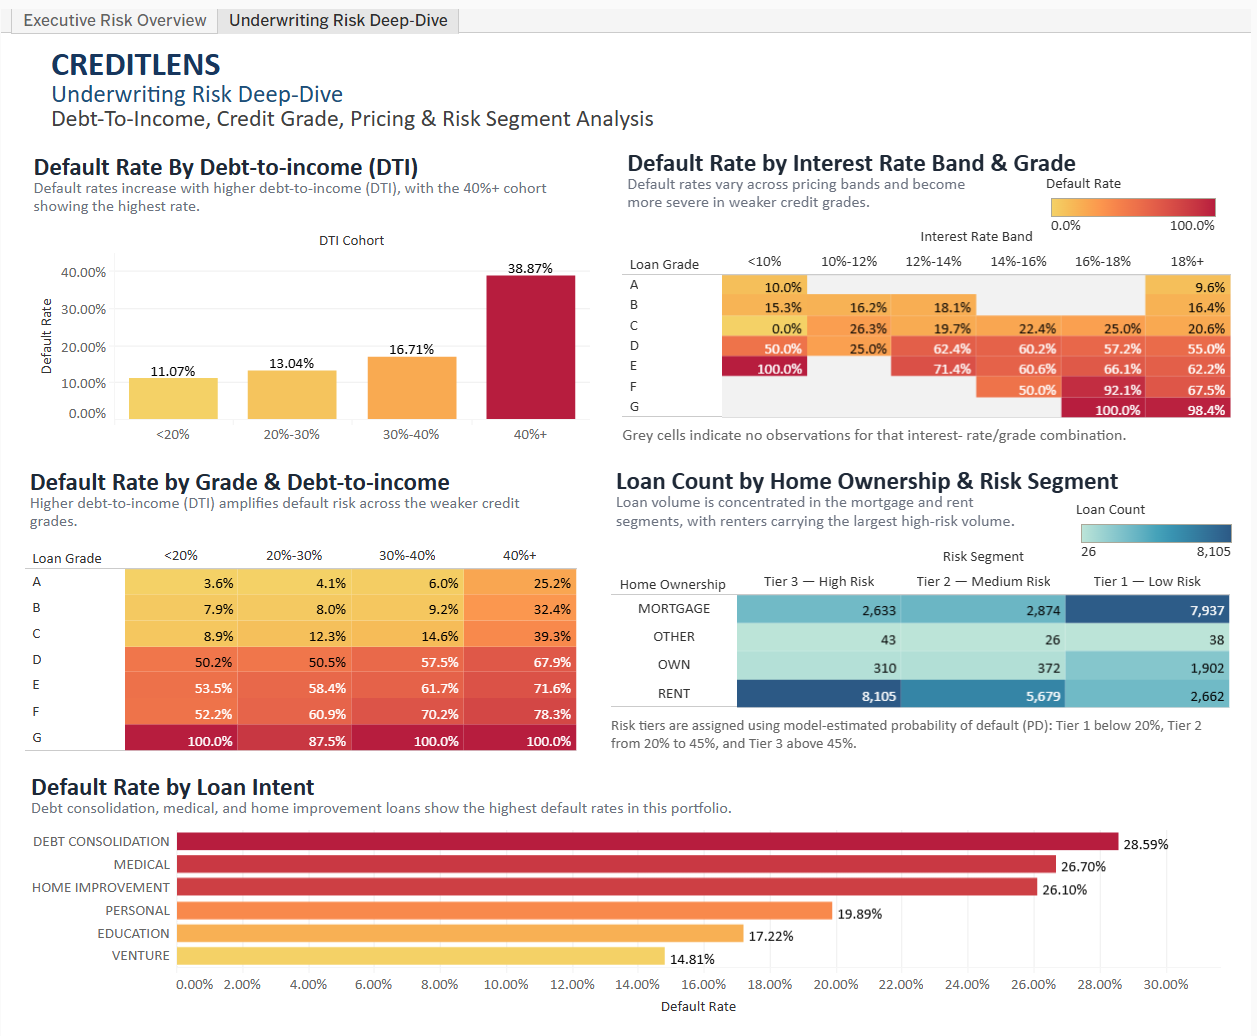

Layout of this report page (visuals, bound fields, positions):
{"tool":"tableau","page":{"name":"Underwriting Risk Deep-Dive","canvas":[1000,800],"ordinal":1},"visuals":[{"type":"worksheet","title":"Default Rate by Interest Rate Band & Grade","mark":"Square","rows":["loan_grade"],"cols":["Calculation_0014411405107278"],"box":[497,83,487,243]},{"type":"worksheet","title":"Default Rate By Debt-to-income (DTI)","mark":"Automatic","rows":["loan_status"],"cols":["Calculation_0014411402293315"],"box":[22,86,449,240]},{"type":"legend","title":"Default Rate by Interest Rate Band & Grade","param":"[federated.0zmm9wi1wbdsz419ylqwc18lmxk2].[avg:loan_status:qk]","box":[836,110,140,80]},{"type":"worksheet","title":"Loan Count by Home Ownership & Risk Segment","mark":"Square","rows":["person_home_ownership"],"cols":["Calculation_0014411402944581"],"box":[488,337,496,235]},{"type":"worksheet","title":"Default Rate by Grade & Debt-to-income","mark":"Square","rows":["loan_grade"],"cols":["Calculation_0014411402293315"],"box":[19,338,442,234]},{"type":"legend","title":"Loan Count by Home Ownership & Risk Segment","param":"[federated.0zmm9wi1wbdsz419ylqwc18lmxk2].[cnt:loan_status:qk]","box":[860,371,129,80]},{"type":"worksheet","title":"Default Rate by Loan Intent","mark":"Automatic","rows":["loan_intent"],"cols":["loan_status"],"box":[20,583,956,206]}]}

Visuals, with their boxes in screenshot pixels (x1, y1, x2, y2), scaled from the page's 1000x800 canvas onto the 1257x1036 screenshot:
"Default Rate by Interest Rate Band & Grade" worksheet (Square marks): [625,107,1237,422]
"Default Rate By Debt-to-income (DTI)" worksheet: [28,111,592,422]
"Default Rate by Interest Rate Band & Grade" legend: [1051,142,1227,246]
"Loan Count by Home Ownership & Risk Segment" worksheet (Square marks): [613,436,1237,741]
"Default Rate by Grade & Debt-to-income" worksheet (Square marks): [24,438,579,741]
"Loan Count by Home Ownership & Risk Segment" legend: [1081,480,1243,584]
"Default Rate by Loan Intent" worksheet: [25,755,1227,1022]
